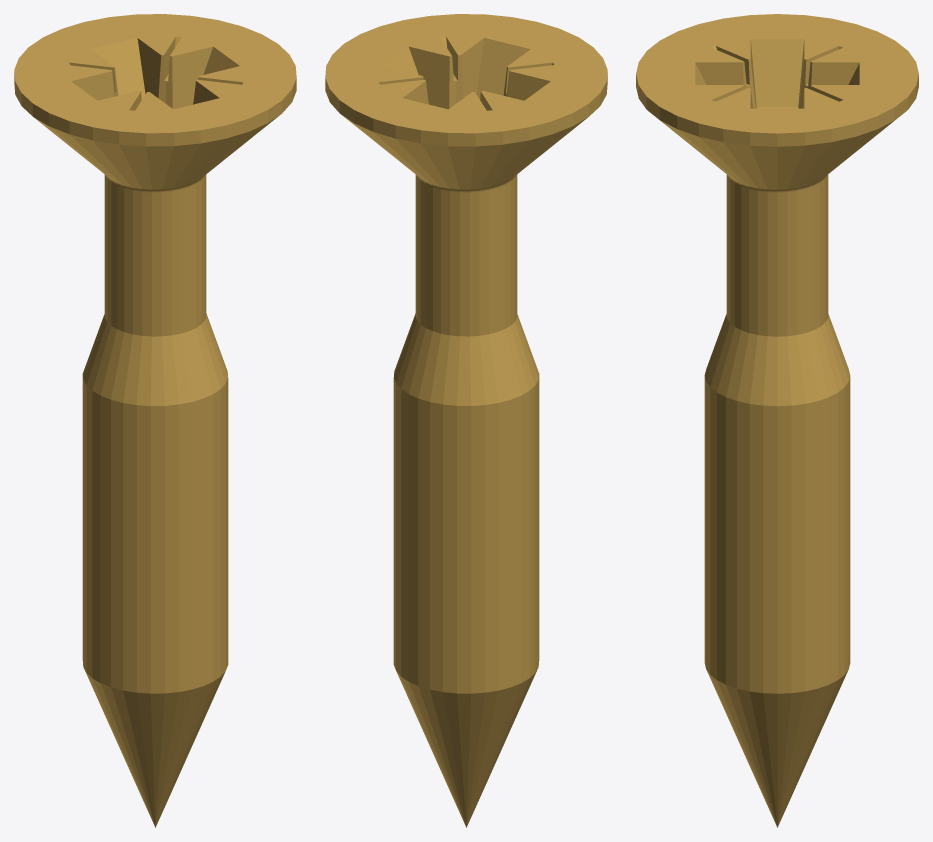
Rendered from model_display.glb.
The picture shows the model from 3 angles, left to right: view 1: azimuth 30°, elevation 25°; view 2: azimuth 150°, elevation 25°; view 3: azimuth 270°, elevation 25°; orthographic projection.
Visible parts, largest first — view 1: geometry_0; view 2: geometry_0; view 3: geometry_0.
Boxes of the visible parts, x1,y1,x2,y2 form: geometry_0: (14, 14, 296, 827); geometry_0: (325, 14, 607, 827); geometry_0: (636, 14, 918, 827).
Size of the model in its own units: 0.0068 by 0.02 by 0.0068.
